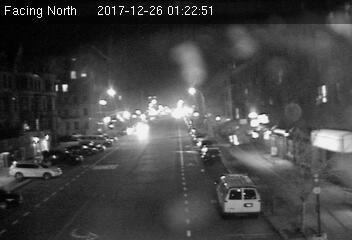car: (200, 145, 223, 162)
truck: (215, 174, 263, 216)
